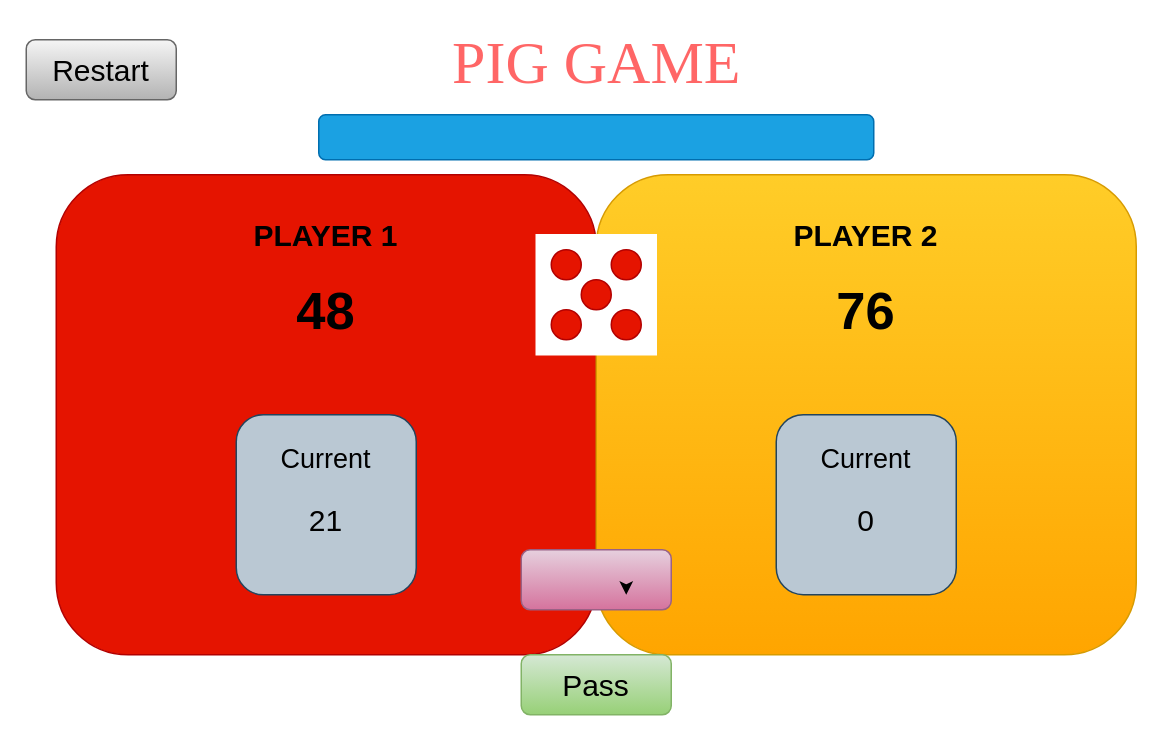
This 1163x741 diagram has some shape labels left out. The box of each missing label's shape, as (x1, y1, x2, y2) in pixels:
Player 1 Turn!: (317, 113, 874, 160)
Roll: (520, 548, 671, 610)
